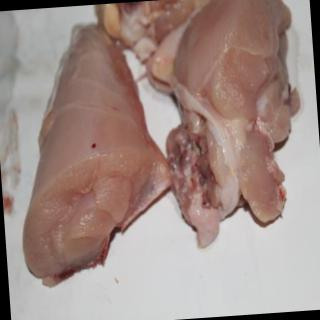Ayam: (92, 1, 311, 255), (6, 17, 178, 291)
